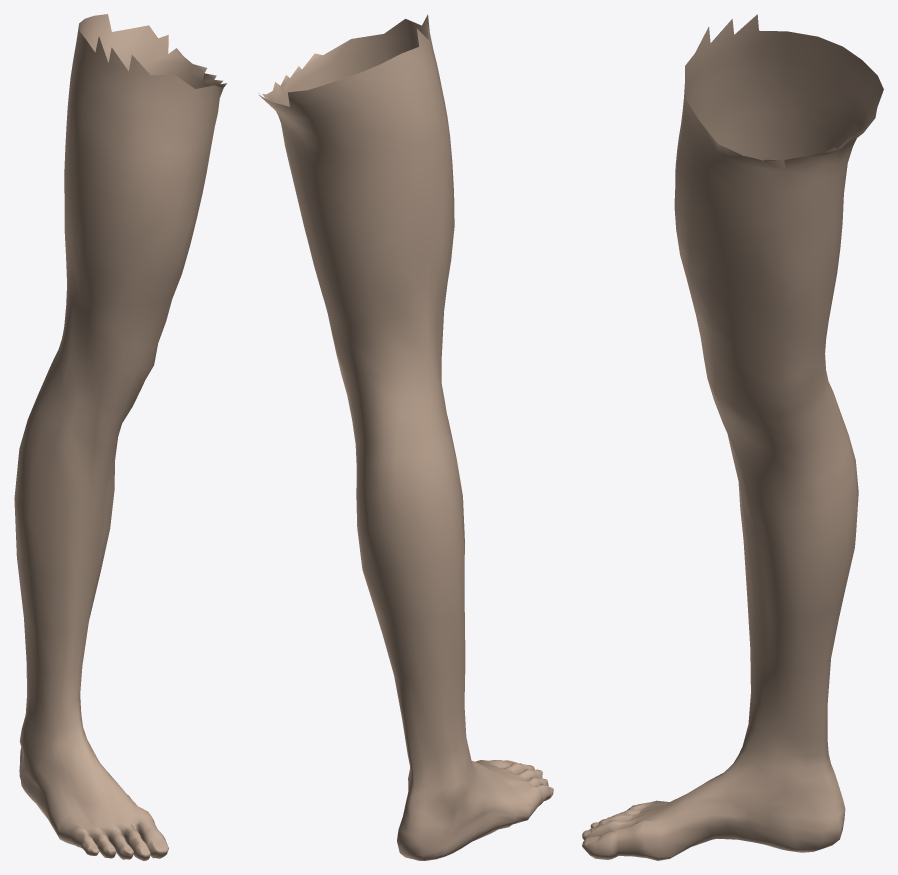
File: left_leg.glb
The picture shows the model from 3 angles, left to right: view 1: azimuth 30°, elevation 25°; view 2: azimuth 150°, elevation 25°; view 3: azimuth 270°, elevation 25°; orthographic projection. The views are drawn at different scales.
Visible parts, largest first — view 1: base_humanMesh_base_human_0.001; view 2: base_humanMesh_base_human_0.001; view 3: base_humanMesh_base_human_0.001.
Part boxes in pixels (bbox=[...]): base_humanMesh_base_human_0.001: bbox=[14, 14, 227, 860]; base_humanMesh_base_human_0.001: bbox=[259, 14, 553, 860]; base_humanMesh_base_human_0.001: bbox=[582, 14, 883, 860].
Size of the model in its own units: 0.2824 by 1.05 by 0.3392.
